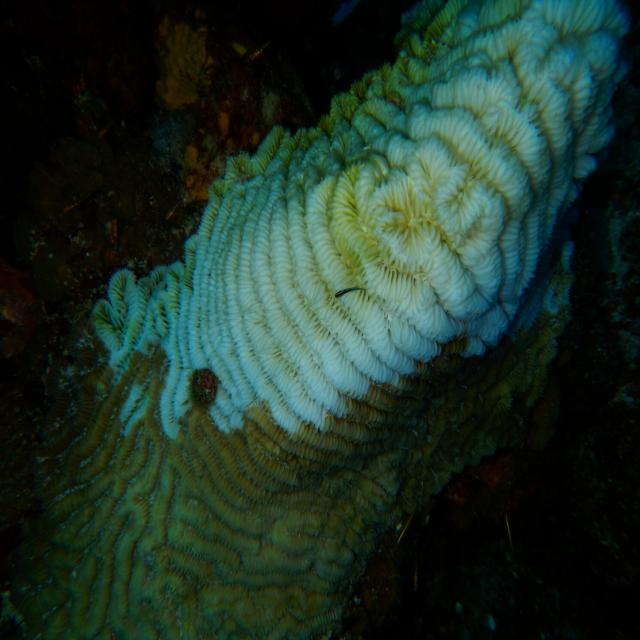Coral: (9, 0, 630, 640)
